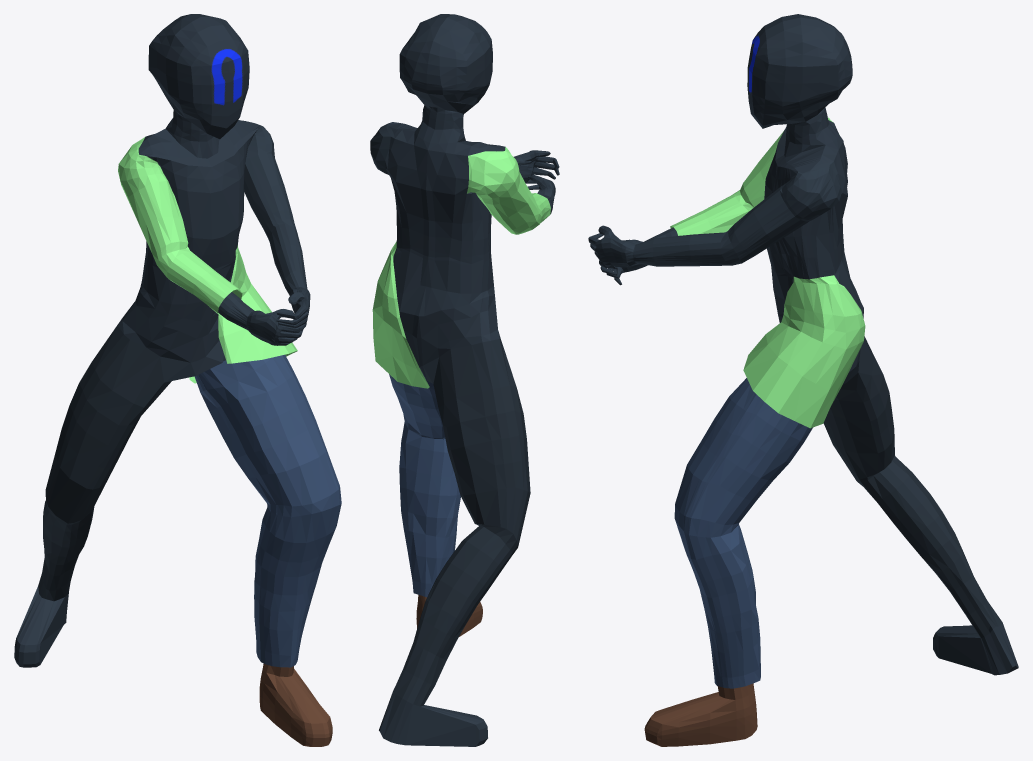
The model's file is Mar_WL_000028.obj.
The picture shows the model from 3 angles, left to right: view 1: azimuth 30°, elevation 25°; view 2: azimuth 150°, elevation 25°; view 3: azimuth 270°, elevation 25°; orthographic projection. The views are drawn at different scales.
Visible parts, largest first — view 1: Cube.000_Cube.001; view 2: Cube.000_Cube.001; view 3: Cube.000_Cube.001.
Boxes of the visible parts, x1=… form: Cube.000_Cube.001: x1=14, y1=14, x2=341, y2=746; Cube.000_Cube.001: x1=370, y1=14, x2=559, y2=746; Cube.000_Cube.001: x1=588, y1=14, x2=1018, y2=746.
Size of the model in its own units: 1.14 by 3.73 by 2.08.
